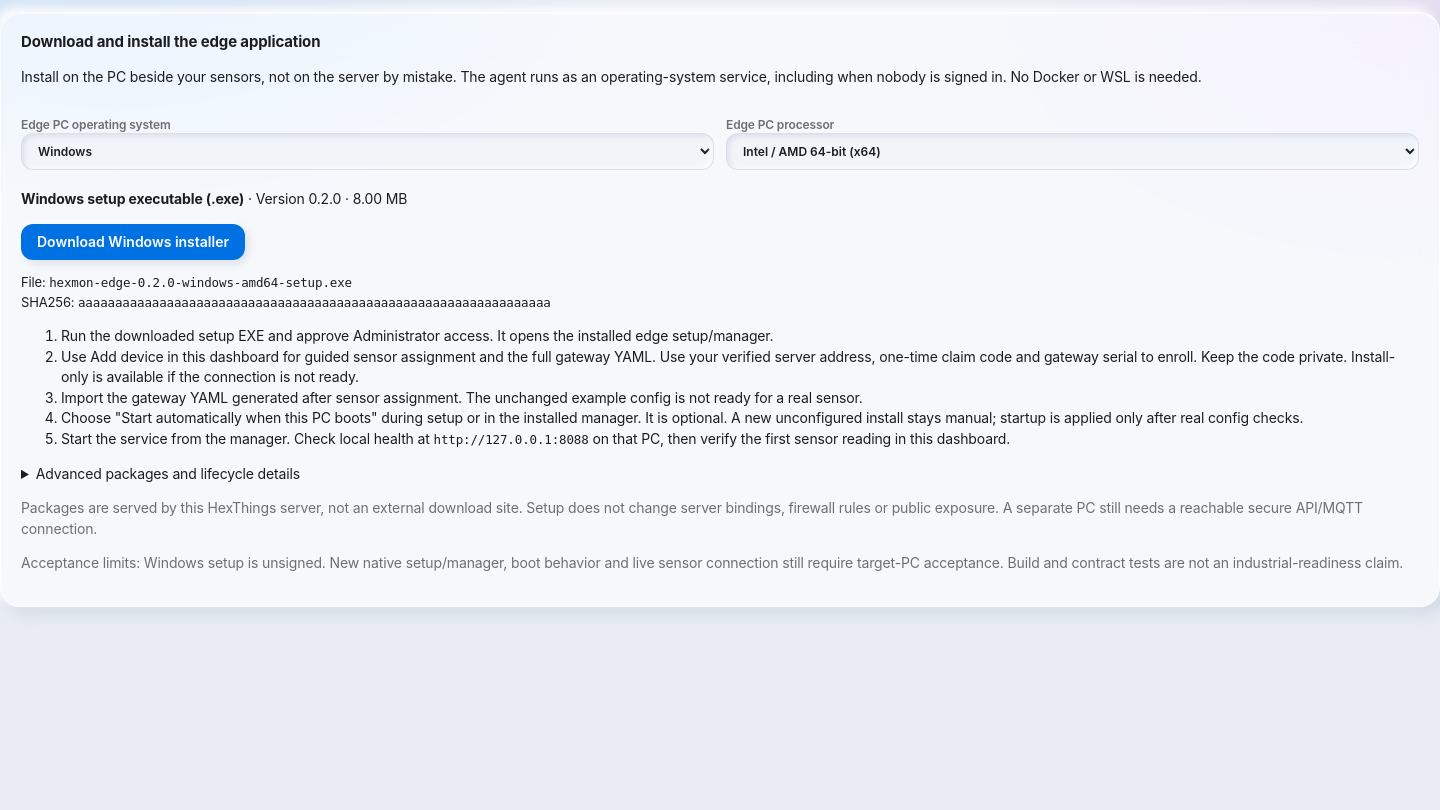
download failure is visible and never reports installed
Click the button "Download Windows installer" at (133, 242), box [21, 224, 245, 260]
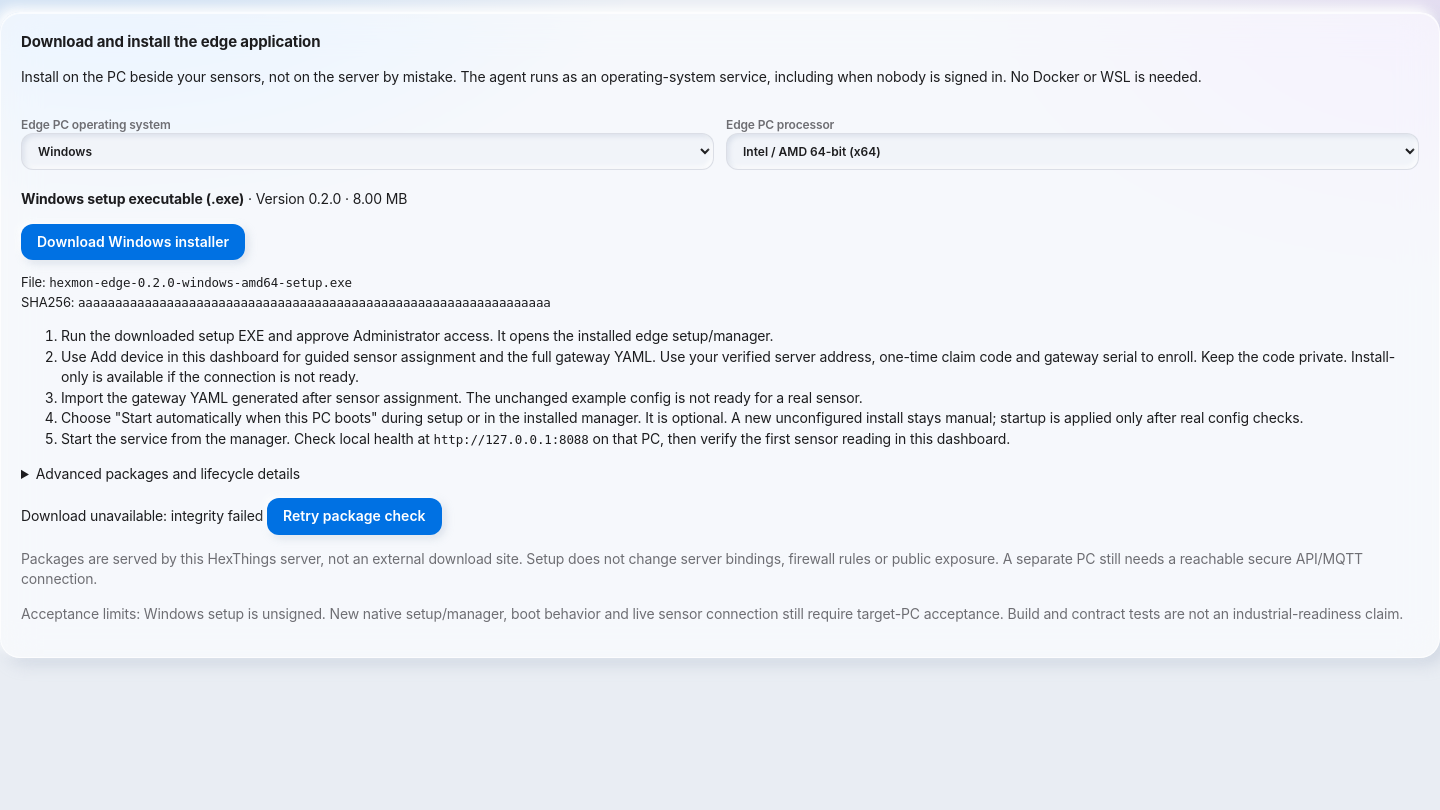
Check: the message "Download unavailable: integrity failed Retry package check" is shown, box [21, 498, 442, 535]
